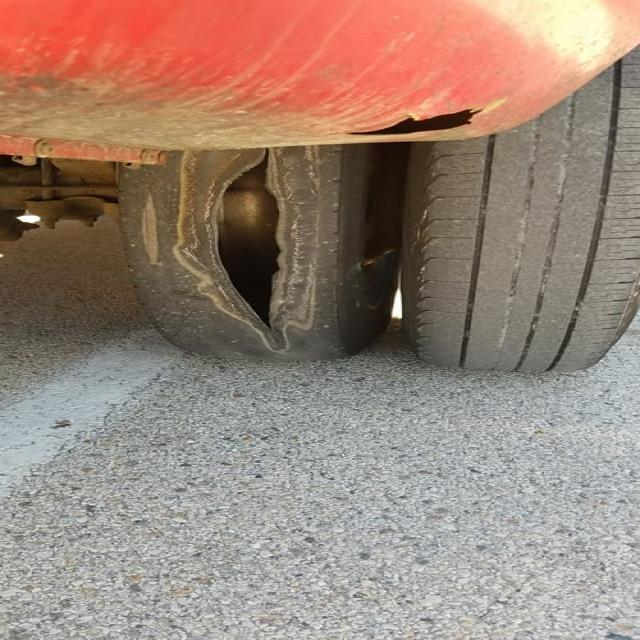Flat spots: (450, 139, 625, 370)
